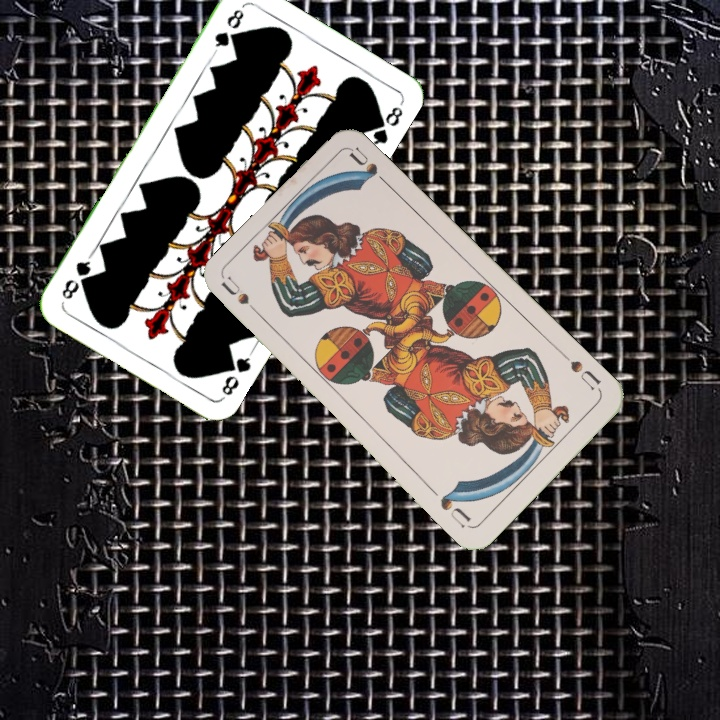G8: (217, 347, 256, 401), (210, 4, 246, 56)
SU: (219, 275, 268, 323), (557, 348, 604, 393)
